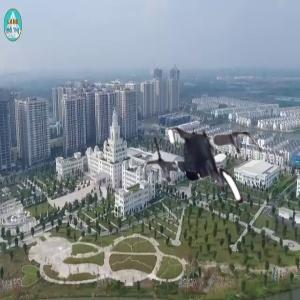drone: (141, 108, 269, 236)
